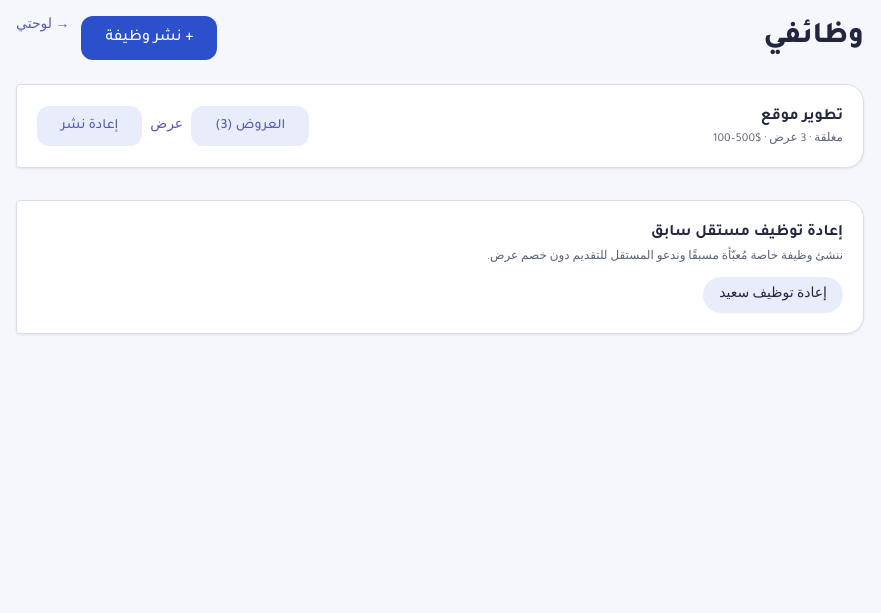
Test: MyJobsPage › reposts a job to the right endpoint with edited fields
What coordinates should you click on to do the following:
click the button "إعادة نشر"
I would click on:
 (90, 126)
Its box is [37,106,142,146].
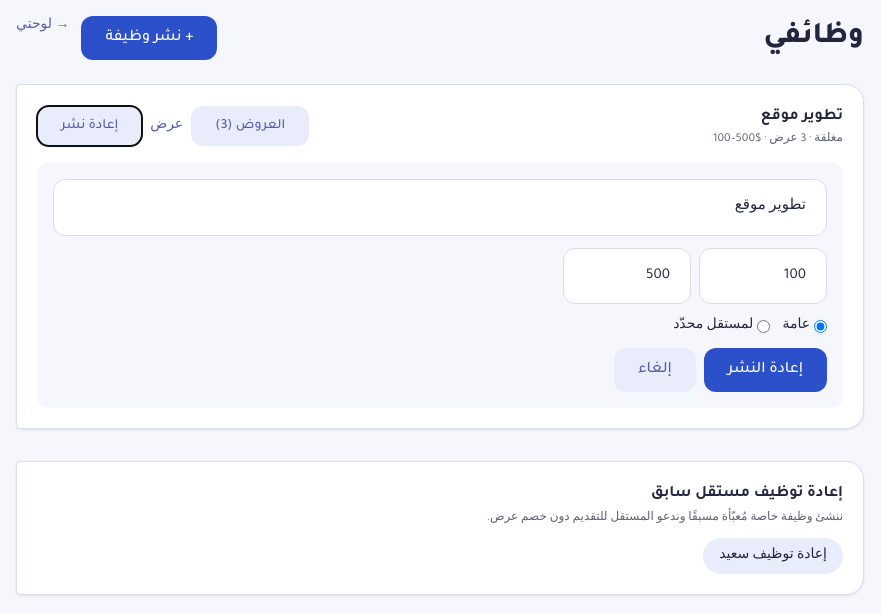
What coordinates should you click on to do the following:
click the button "إعادة النشر"
I would click on:
 (765, 370)
Its box is [704,348,827,392].
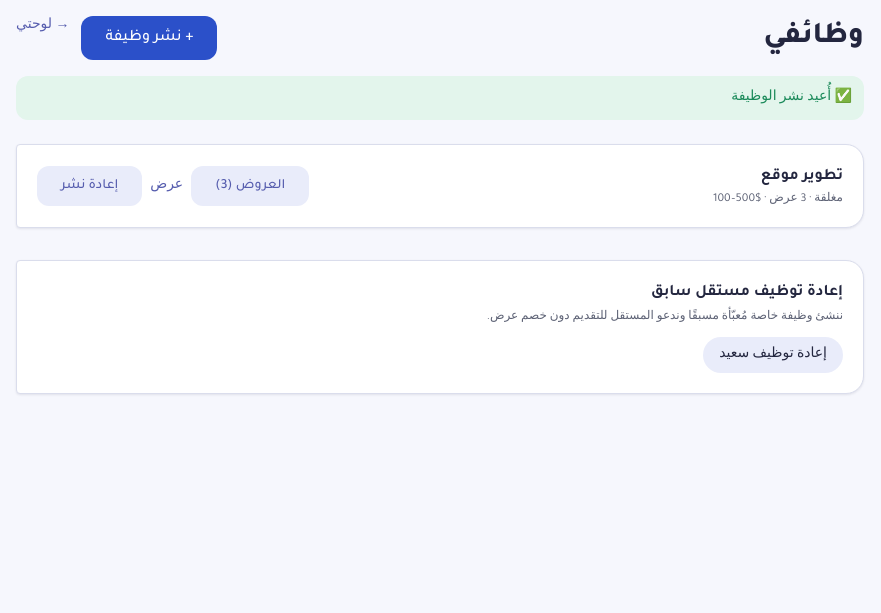
Expected: the text "✅ أُعيد نشر الوظيفة" is shown, [16,76,864,120]
